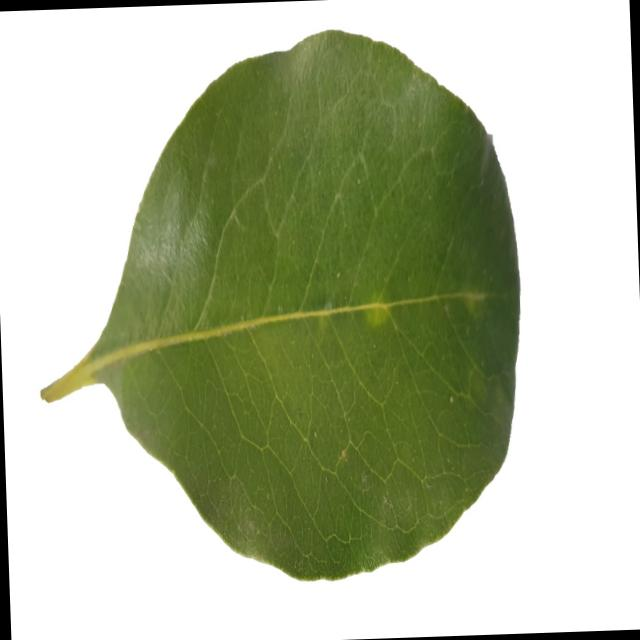Medicinal-Sandalwood: (24, 20, 530, 586)
